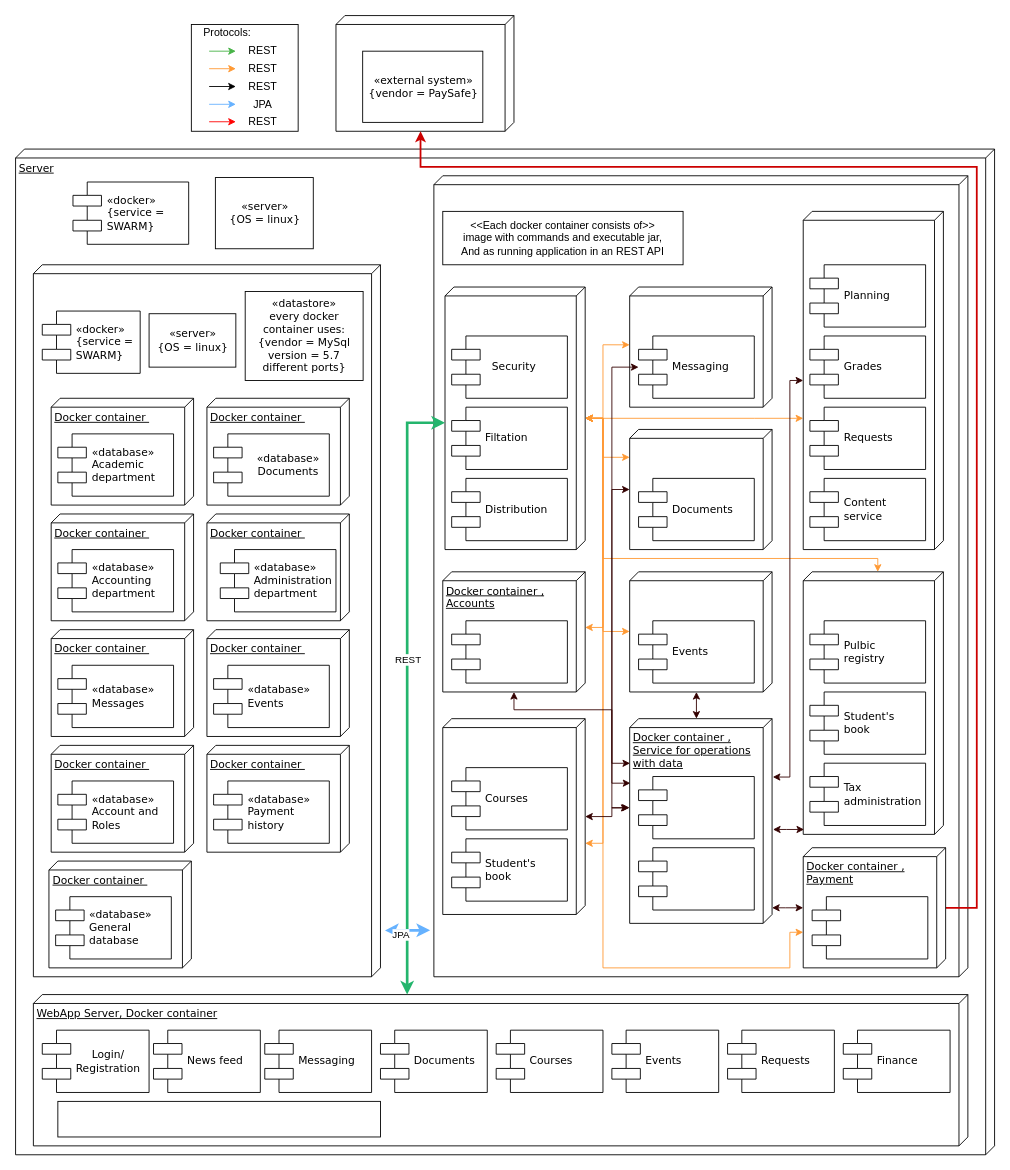
The diagram is 1010 pixels wide and 1170 high, and some of its shapes have lost their labels. Here are the shapes that lost their labels. From the top down, the box of each, then its label:
(335, 15, 514, 131): PaymentAPI
(629, 286, 772, 407): Docker container , Messaging
(802, 210, 943, 550): Docker container , Administration
(444, 286, 585, 550): Docker container , Gateway
(629, 429, 772, 550): Docker container , Documents
(433, 175, 968, 977): Backend Server
(32, 264, 380, 977): Database Server
(629, 571, 772, 692): Docker container , Events
(451, 620, 567, 683): Accounts
(802, 571, 943, 834): Docker container , Accounting
(442, 718, 585, 914): Docker container , Academic
(638, 776, 754, 839): Database connection
(638, 847, 754, 910): Filtration
(811, 896, 928, 959): Payment
(57, 1100, 380, 1137): <<Service>> {docker running WebApplication.js}
